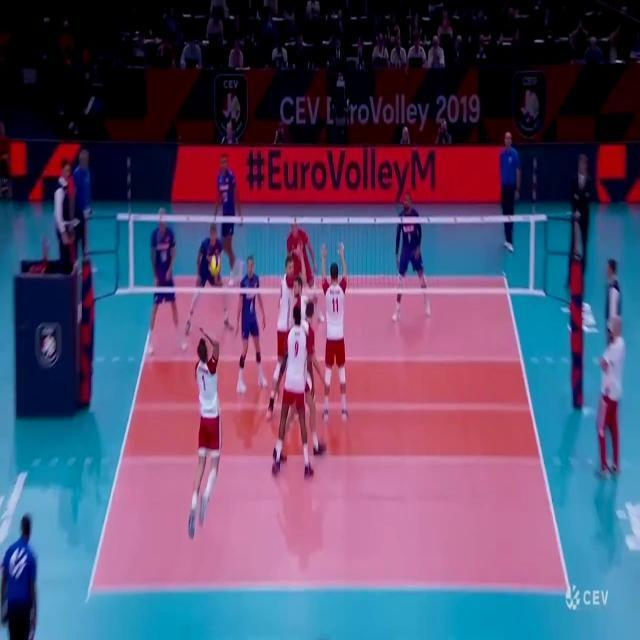volleyball: (210, 255, 222, 274)
